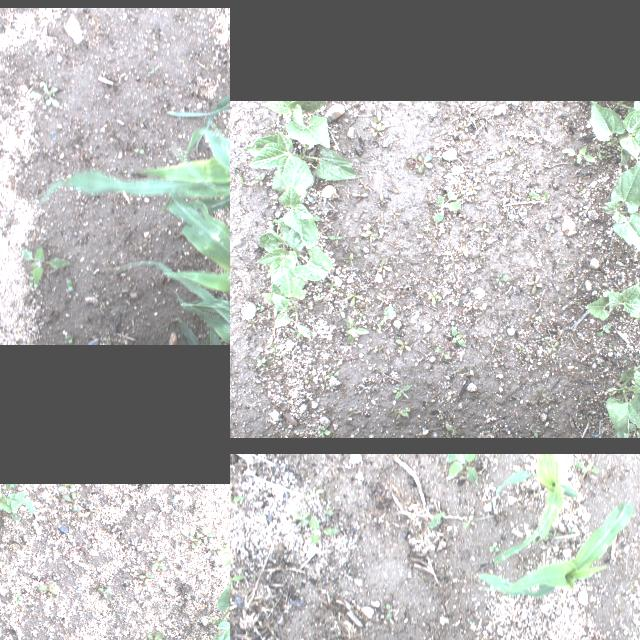crop: (40, 94, 230, 226), (111, 197, 230, 341), (477, 501, 633, 595), (166, 8, 230, 158), (493, 454, 579, 565), (246, 128, 362, 196), (254, 231, 334, 283), (600, 156, 640, 256), (262, 262, 312, 332), (260, 100, 330, 148), (590, 100, 640, 165), (606, 347, 640, 437), (276, 183, 318, 250), (587, 282, 640, 320), (208, 571, 230, 640), (610, 100, 640, 124), (215, 543, 230, 569)
weed: (21, 245, 70, 289), (0, 483, 35, 526), (442, 454, 479, 481), (433, 191, 461, 223), (310, 516, 340, 544), (31, 82, 59, 108), (561, 144, 595, 164), (346, 315, 370, 343), (405, 152, 433, 174), (444, 326, 466, 350), (378, 306, 397, 332), (524, 274, 544, 294), (572, 461, 602, 474), (372, 110, 390, 130), (293, 509, 313, 527), (64, 491, 80, 512), (196, 526, 214, 544), (428, 511, 446, 529), (371, 120, 391, 136), (445, 422, 465, 438), (290, 326, 314, 338), (396, 338, 412, 356), (394, 384, 412, 400), (460, 512, 476, 530), (38, 582, 58, 596), (338, 254, 360, 266), (152, 552, 166, 570), (235, 168, 249, 185), (328, 230, 342, 247), (230, 493, 245, 508), (0, 211, 14, 227), (251, 170, 265, 186), (473, 222, 489, 236), (426, 290, 442, 304), (596, 323, 612, 337), (97, 584, 111, 600), (138, 570, 154, 584), (230, 573, 244, 588), (465, 180, 481, 193), (304, 489, 324, 499), (348, 293, 362, 307), (378, 258, 392, 272), (498, 144, 512, 158), (505, 140, 519, 154), (525, 190, 539, 204), (627, 422, 640, 437), (315, 425, 331, 437), (362, 230, 378, 242), (140, 632, 164, 640), (84, 504, 100, 516), (376, 294, 389, 308), (436, 346, 450, 359), (303, 210, 321, 220), (496, 274, 510, 286), (548, 340, 560, 354), (394, 408, 408, 419), (259, 310, 271, 322), (567, 206, 579, 218), (12, 592, 24, 604), (348, 404, 358, 418), (523, 312, 537, 322), (546, 100, 560, 110), (528, 100, 538, 114), (264, 264, 274, 278), (189, 534, 199, 548), (246, 317, 258, 328), (388, 206, 399, 218), (447, 276, 458, 288), (466, 300, 479, 310), (431, 390, 444, 400), (352, 192, 368, 200), (534, 192, 550, 200), (58, 483, 74, 491), (326, 500, 334, 516), (546, 529, 562, 537), (148, 64, 160, 74), (269, 218, 281, 228), (268, 352, 280, 362), (382, 258, 388, 278), (396, 288, 406, 300), (460, 120, 470, 132), (490, 340, 500, 352), (514, 343, 526, 353), (607, 342, 619, 352), (574, 186, 586, 196), (66, 278, 74, 292), (371, 344, 382, 354), (266, 342, 278, 351), (386, 603, 392, 621), (304, 374, 314, 384), (326, 278, 336, 288), (332, 181, 342, 191), (458, 247, 468, 257), (531, 427, 541, 437), (602, 150, 612, 160), (344, 186, 352, 198), (546, 222, 554, 234), (597, 142, 603, 158), (570, 270, 578, 282), (633, 278, 640, 291), (256, 358, 266, 367), (378, 194, 387, 204), (630, 247, 640, 256), (392, 284, 403, 292), (66, 334, 74, 344), (322, 221, 332, 229), (355, 304, 363, 314), (328, 284, 338, 292), (358, 181, 368, 189), (450, 255, 460, 263), (538, 388, 546, 398), (574, 418, 584, 426), (618, 359, 628, 367), (489, 545, 499, 553), (361, 300, 373, 306), (402, 406, 414, 412), (512, 188, 518, 200), (578, 394, 584, 406), (318, 228, 328, 235), (256, 303, 264, 311), (550, 355, 558, 363), (302, 305, 310, 313), (134, 148, 144, 154), (324, 372, 334, 378), (366, 223, 372, 233), (94, 197, 100, 205), (27, 48, 33, 56), (438, 412, 444, 420), (503, 342, 511, 348), (359, 312, 366, 318), (404, 290, 411, 296), (318, 292, 324, 298), (536, 315, 542, 321), (440, 145, 448, 149), (470, 620, 474, 626), (567, 529, 573, 533), (636, 355, 638, 365), (334, 372, 338, 376), (454, 370, 456, 378), (598, 362, 602, 366), (598, 290, 604, 292), (396, 336, 400, 336)
